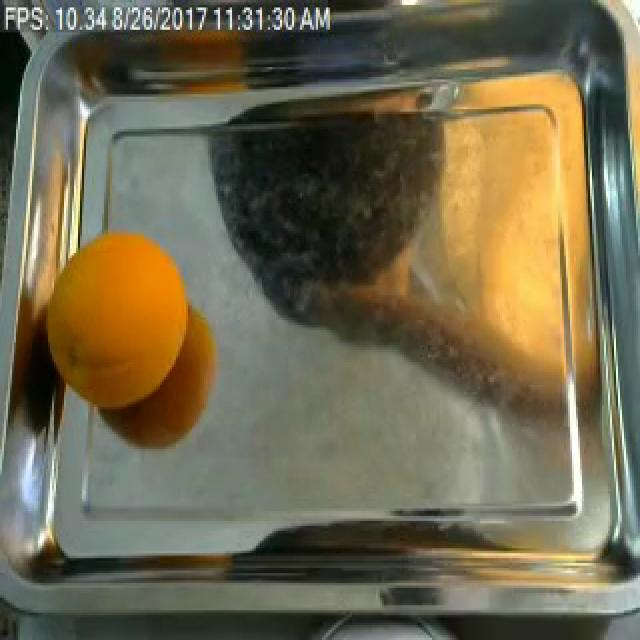Fruit: (394, 92, 588, 384), (38, 221, 200, 424)
